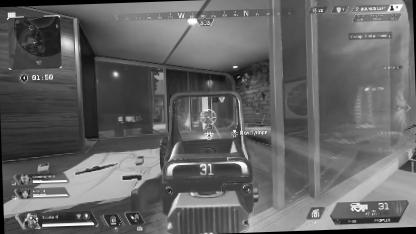Target: (203, 111, 211, 129)
